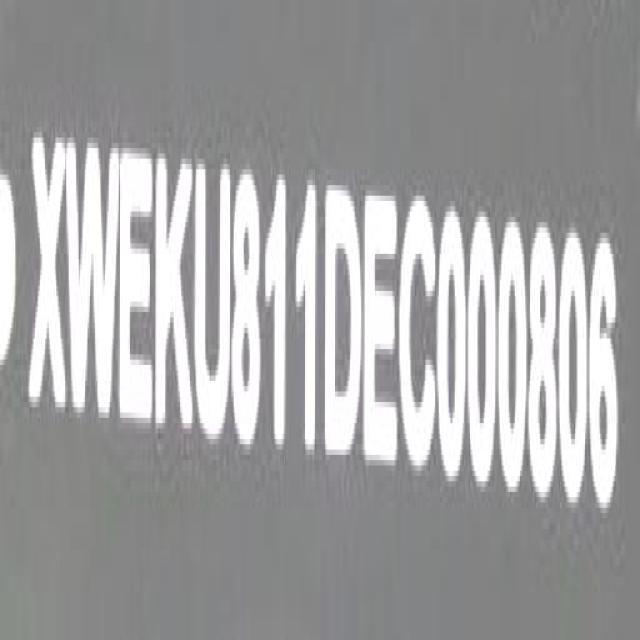0: (558, 229, 590, 513), (438, 202, 468, 490), (468, 210, 498, 497), (500, 215, 530, 499)
1: (264, 164, 290, 465), (297, 172, 322, 468)
6: (591, 230, 623, 523)
8: (230, 163, 261, 461), (528, 217, 558, 504)
C: (400, 187, 438, 483)
D: (323, 177, 362, 474)
E: (118, 142, 160, 442), (366, 180, 402, 480)
K: (157, 143, 193, 441)
U: (195, 152, 235, 453)
W: (66, 130, 122, 438)
X: (28, 127, 70, 430)
